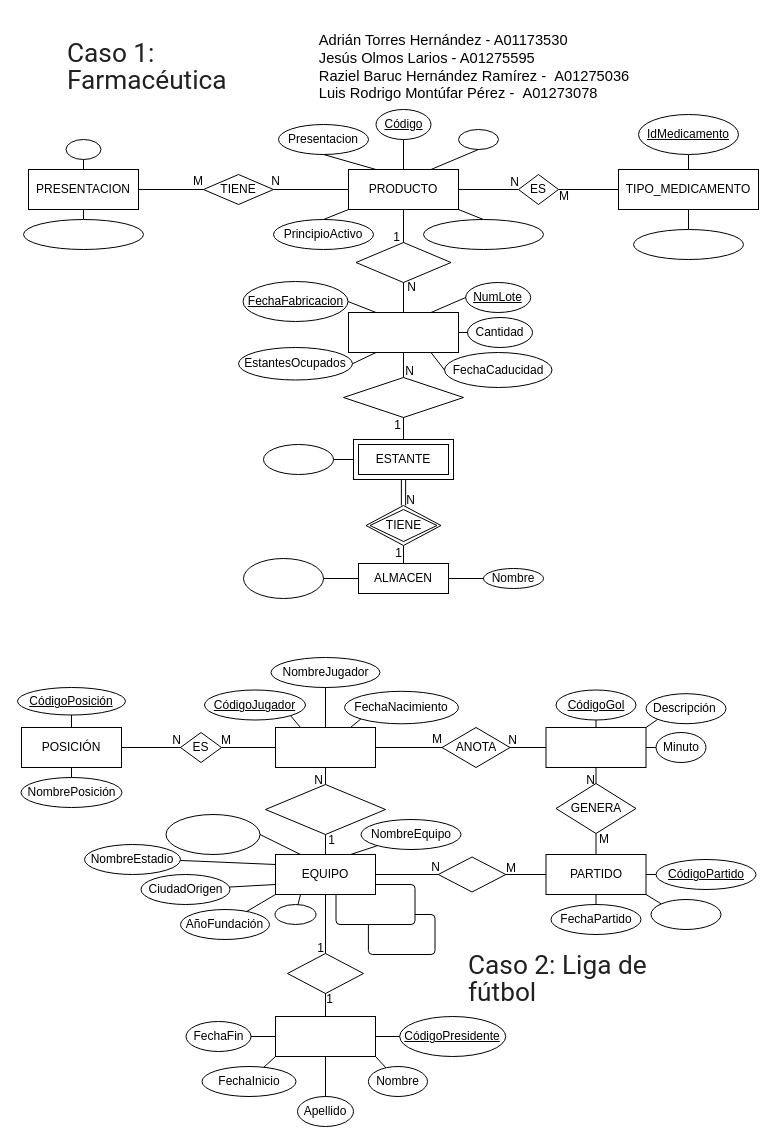
This 776x1144 diagram has some shape labels left out. The centre of each missing label's shape, as x and y in pixels:
"Aforo" goes at point (295, 914).
"ASIGNADO" goes at point (403, 397).
"CódigoEquipo" goes at point (212, 834).
"DIRIGE" goes at point (325, 973).
"GOL" goes at point (595, 747).
"Id" goes at point (83, 149).
"IdAlmacen" goes at point (283, 578).
"IdEstante" goes at point (298, 459).
"JUEGA" goes at point (471, 874).
"JUGADOR" goes at point (325, 747).
"LOCAL" goes at point (401, 934).
"LOTE" goes at point (403, 332).
"Marcador" goes at point (685, 914).
"ModoPresentacion" goes at point (83, 234).
"NombreComercial" goes at point (483, 234).
"PERTENECE" goes at point (325, 809).
"PRESIDENTE" goes at point (325, 1036).
"PRODUCE" goes at point (403, 262).
"Tipo" goes at point (478, 139).
"TipoMedicamento" goes at point (688, 244).
"VISITANTE" goes at point (375, 904).
